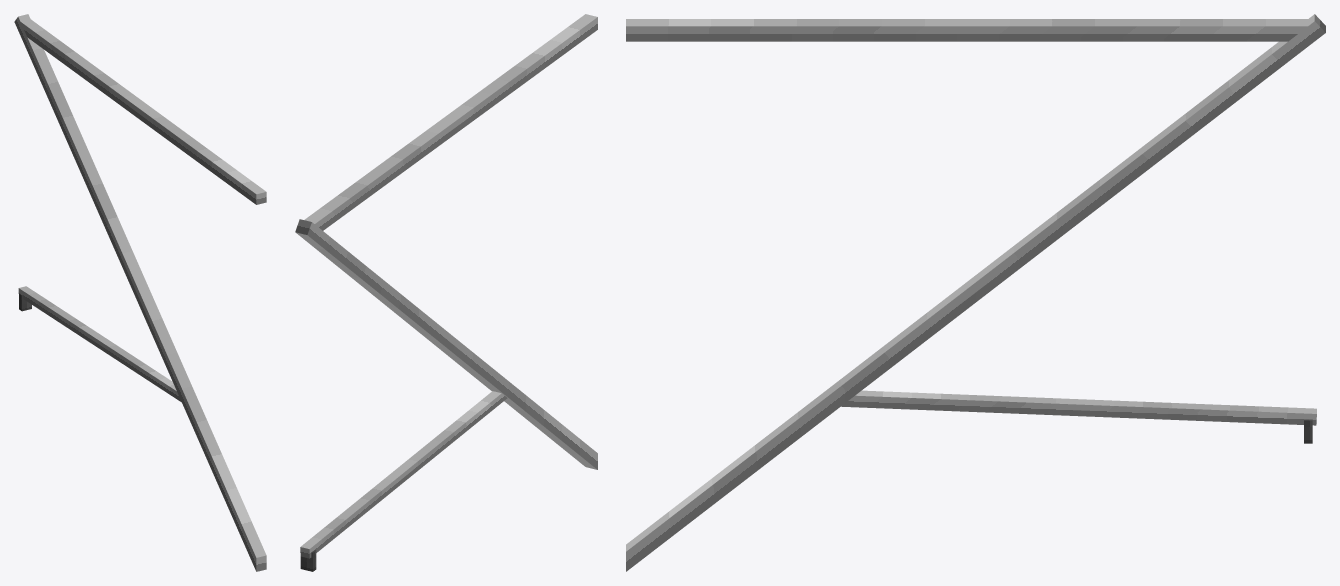
File: cantilever_center_16px.obj
3 views of the same model, side by side, from view 1: azimuth 30°, elevation 25°; view 2: azimuth 150°, elevation 25°; view 3: azimuth 270°, elevation 25° (orthographic). The views are drawn at different scales.
Parts seen in each view (by area): view 1: 7fa31dd1-67b7-41b7-8fcc-6b0bb6b922df, 29e3ba8e-9419-49cb-ba22-4a924b4e07db, bdb764b2-9e6a-4744-9ad5-84c6fa8c4112; view 2: 7fa31dd1-67b7-41b7-8fcc-6b0bb6b922df, 29e3ba8e-9419-49cb-ba22-4a924b4e07db, bdb764b2-9e6a-4744-9ad5-84c6fa8c4112; view 3: 7fa31dd1-67b7-41b7-8fcc-6b0bb6b922df, 29e3ba8e-9419-49cb-ba22-4a924b4e07db, bdb764b2-9e6a-4744-9ad5-84c6fa8c4112.
Part boxes in pixels (left/top/right/bottom): 7fa31dd1-67b7-41b7-8fcc-6b0bb6b922df: left=14, top=14, right=266, bottom=571; 29e3ba8e-9419-49cb-ba22-4a924b4e07db: left=20, top=19, right=266, bottom=204; bdb764b2-9e6a-4744-9ad5-84c6fa8c4112: left=18, top=286, right=181, bottom=402; 7fa31dd1-67b7-41b7-8fcc-6b0bb6b922df: left=295, top=219, right=597, bottom=469; 29e3ba8e-9419-49cb-ba22-4a924b4e07db: left=304, top=14, right=597, bottom=230; bdb764b2-9e6a-4744-9ad5-84c6fa8c4112: left=300, top=391, right=507, bottom=558; 7fa31dd1-67b7-41b7-8fcc-6b0bb6b922df: left=626, top=14, right=1325, bottom=571; 29e3ba8e-9419-49cb-ba22-4a924b4e07db: left=626, top=19, right=1308, bottom=41; bdb764b2-9e6a-4744-9ad5-84c6fa8c4112: left=841, top=390, right=1316, bottom=425.
Size of the model in its own units: 0.0625 by 2.23 by 2.56.
